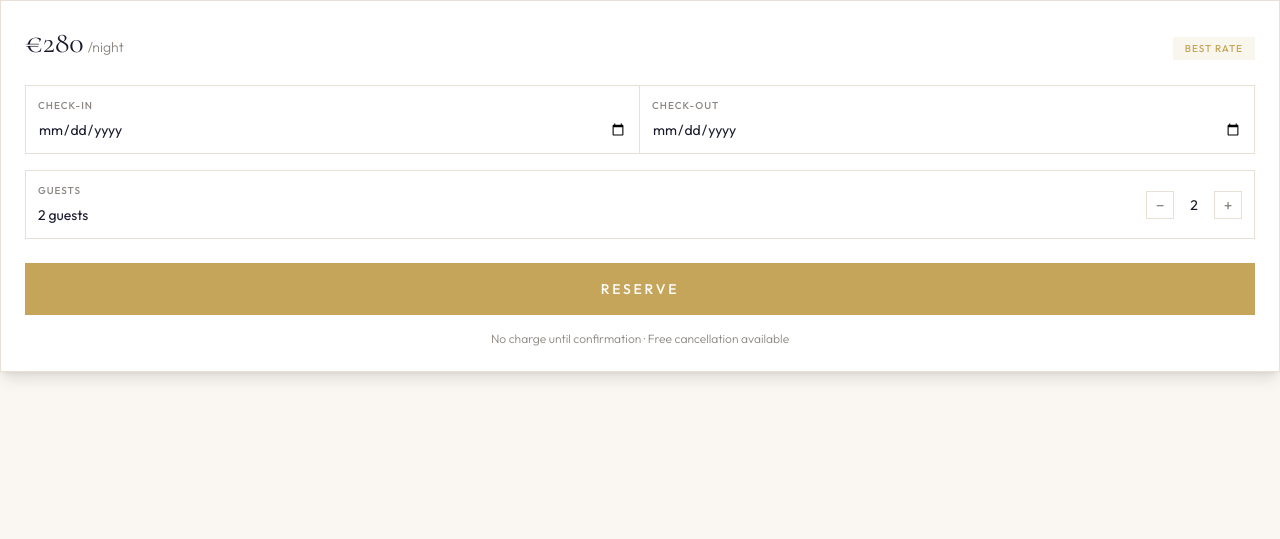
Test: BookingWidget — price summary › hides price summary when dates are cleared
Type "2025-07-01" into the date field below "Check-in" at (332, 130), box [38,120,627,140]
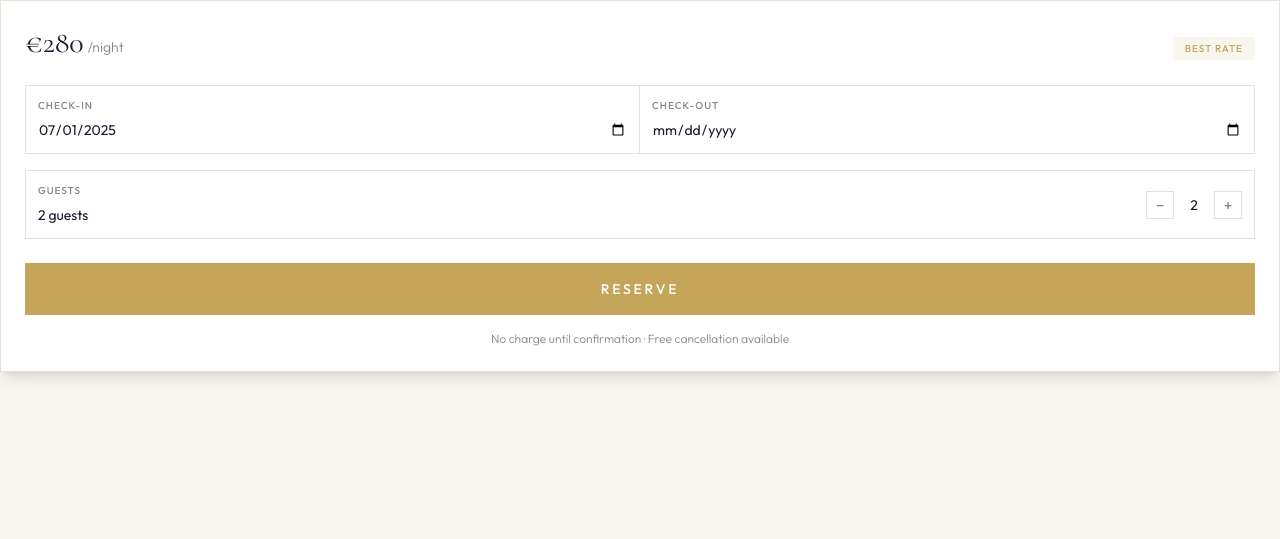
Type "2025-07-08" into the date field below "Check-out" at (947, 130), box [652,120,1242,140]
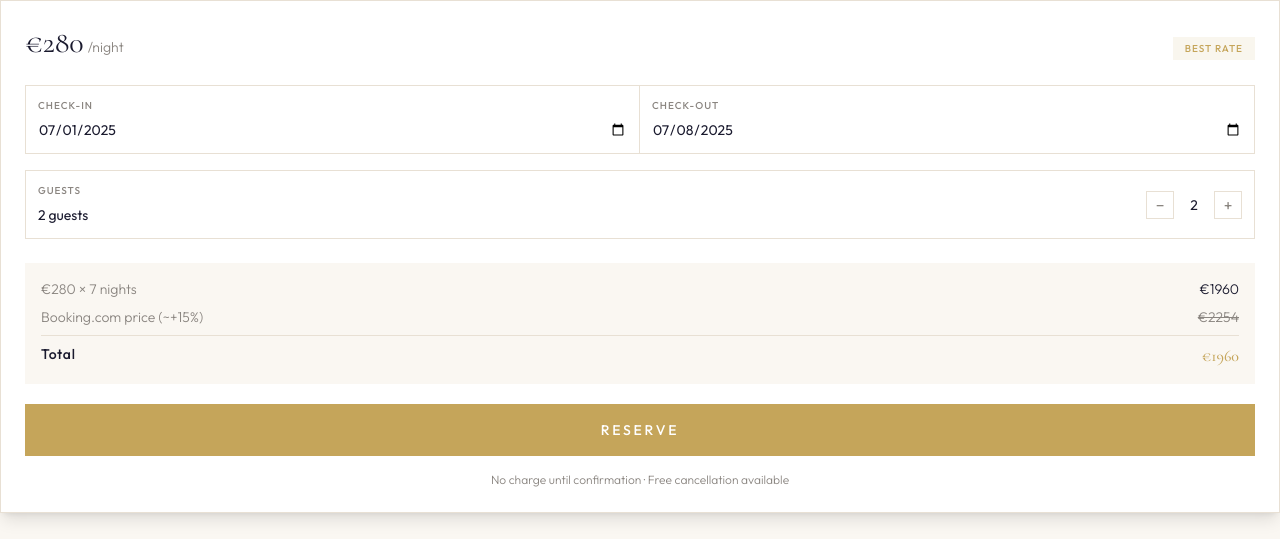
Now the text "Total" is shown, box [41,344,76,368]
// Clear check-out date
Clear the date field below "Check-out" at (947, 130), box [652,120,1242,140]
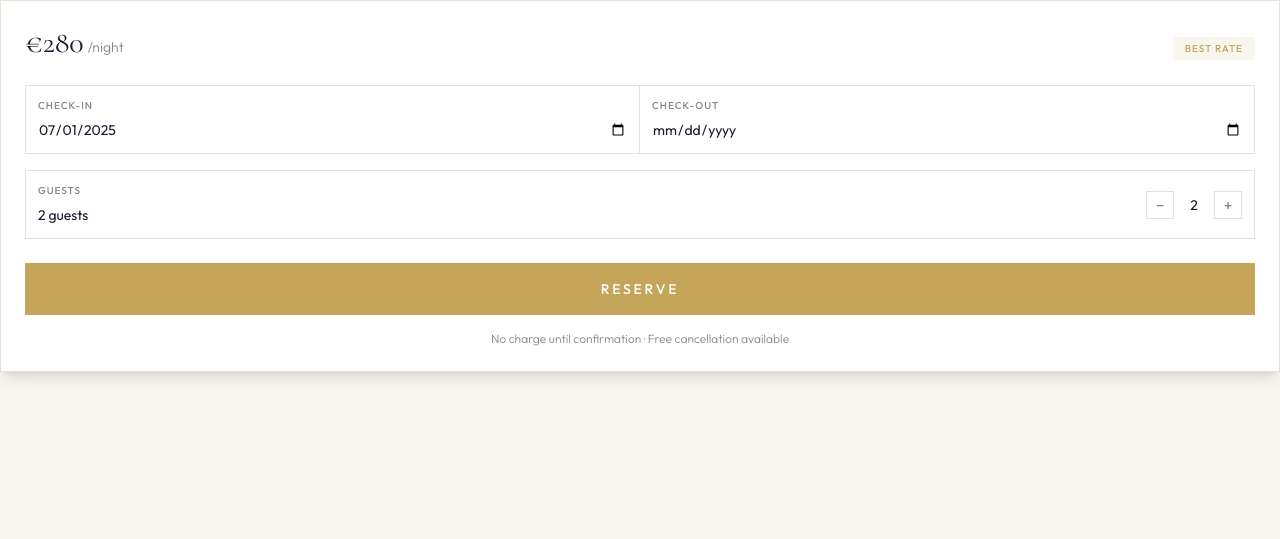
Now the text "Total" is gone
